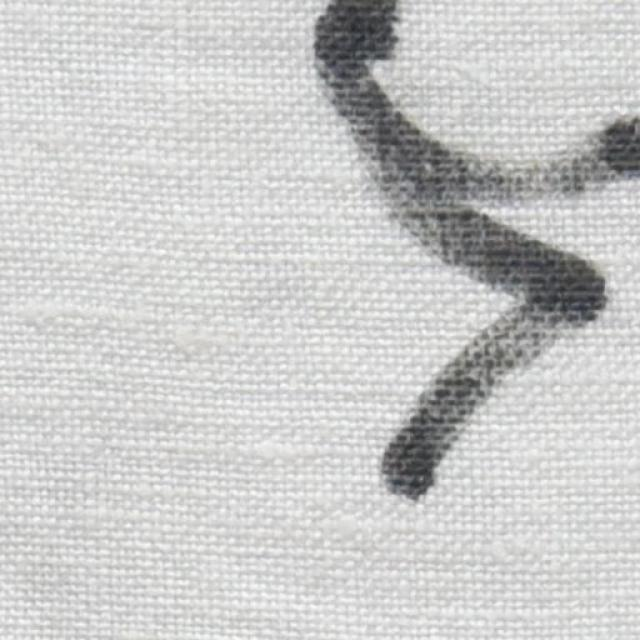Stain: (309, 0, 640, 505)
